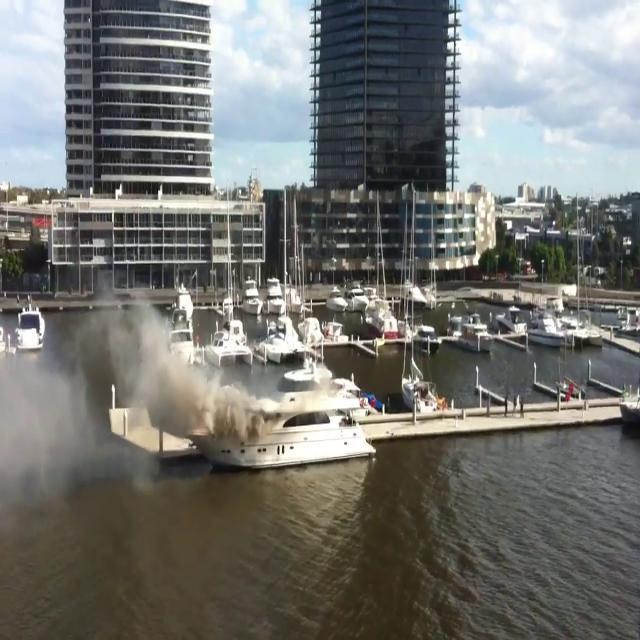Smoke: (80, 284, 252, 444), (0, 316, 98, 528)
